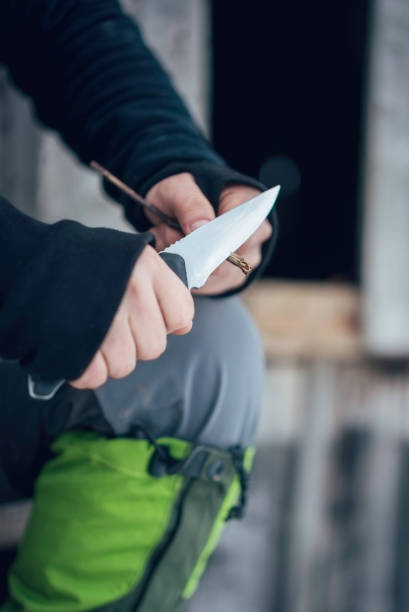knife: (25, 184, 283, 399)
